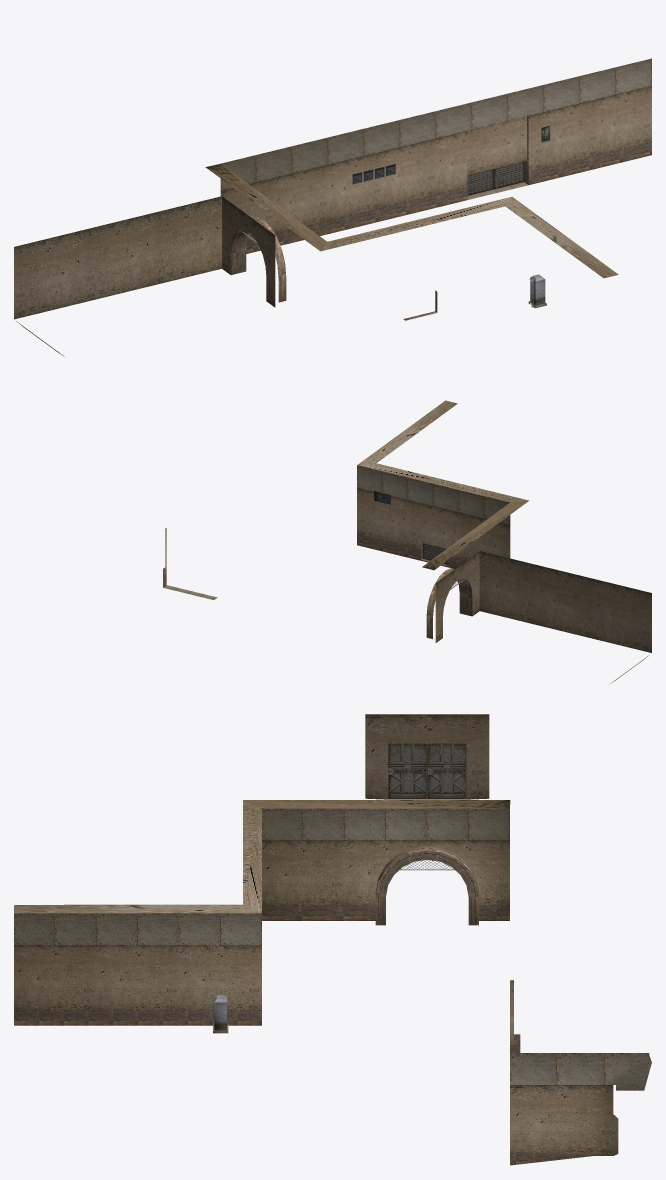
File: M11Z1_TownWall10.glb
3 views of the same model, one above another, from view 1: azimuth 30°, elevation 25°; view 2: azimuth 150°, elevation 25°; view 3: azimuth 270°, elevation 25° (orthographic). The views are drawn at different scales.
Parts seen in each view (by area): view 1: M11Z1_TOWNWALL10; view 2: M11Z1_TOWNWALL10; view 3: M11Z1_TOWNWALL10.
Part boxes in pixels (left/top/right/bottom): M11Z1_TOWNWALL10: left=14, top=58, right=651, bottom=356; M11Z1_TOWNWALL10: left=163, top=400, right=651, bottom=683; M11Z1_TOWNWALL10: left=14, top=714, right=651, bottom=1165.
Bounding box in the file's own units: 84 × 12.1 × 61.75.
10 materials, 10 textured.
